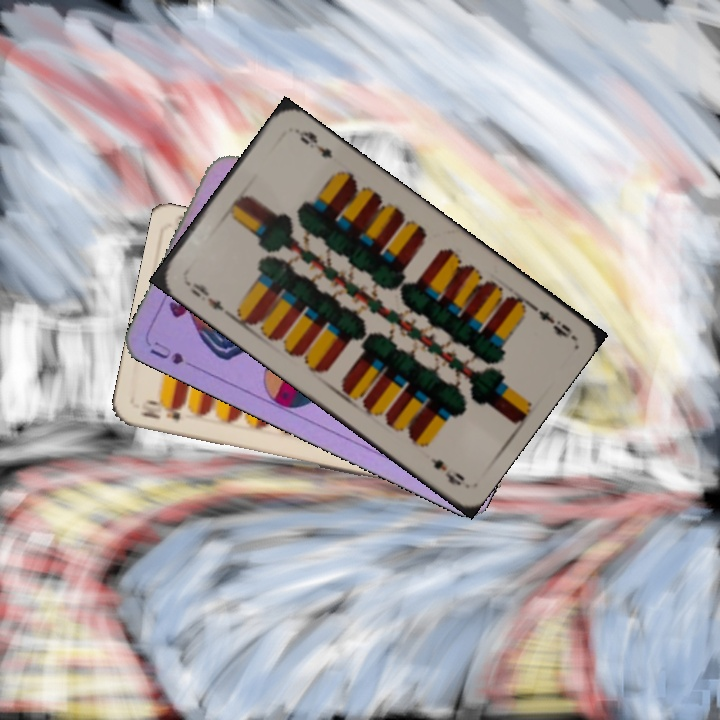E10: (136, 395, 185, 423)
E9: (519, 298, 575, 341), (180, 276, 227, 314)
SU: (146, 336, 202, 373)
